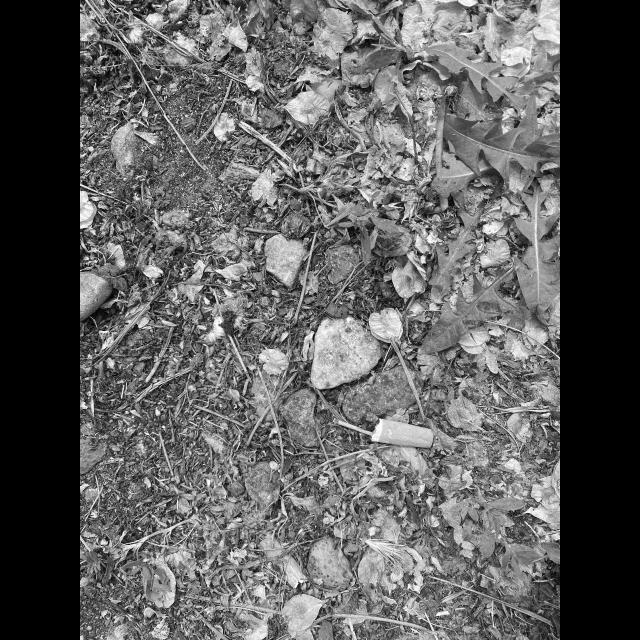cigarette: (370, 418, 434, 448)
